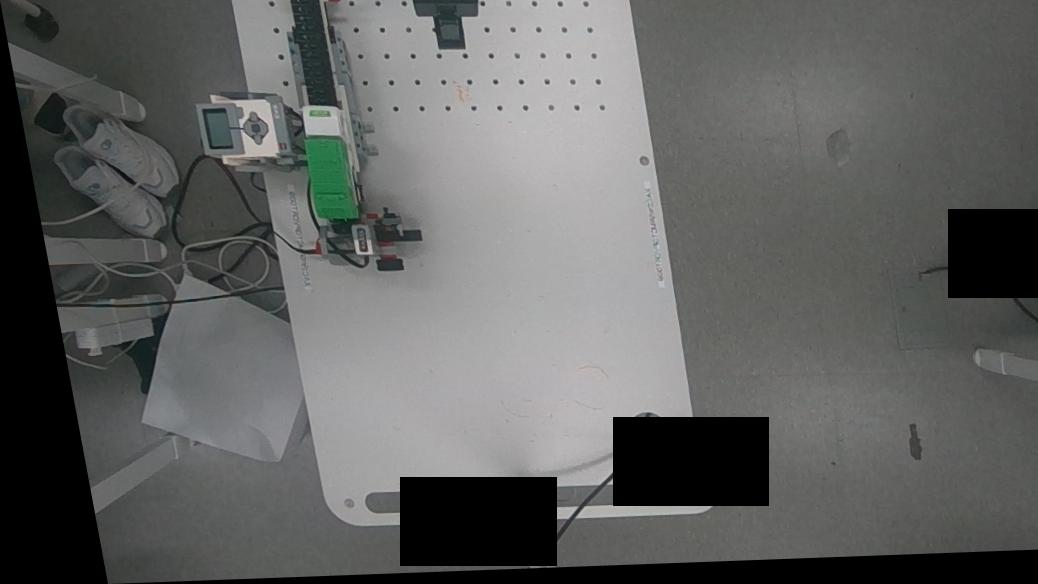truck: (287, 96, 371, 227)
